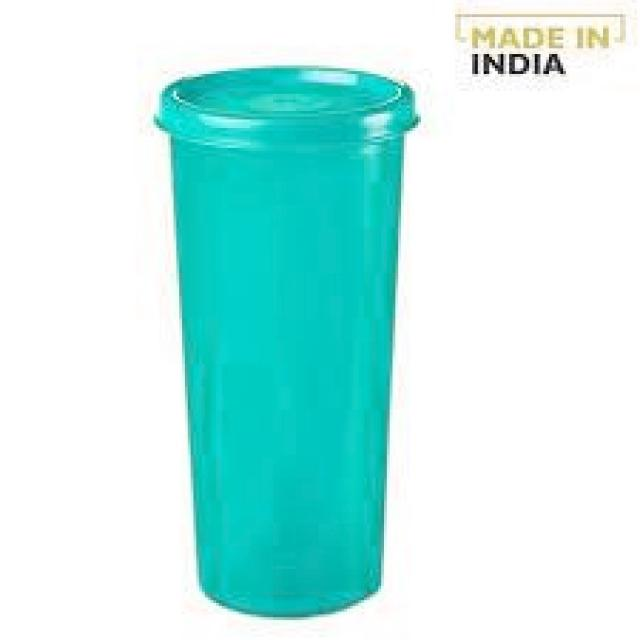bottle: (146, 61, 431, 622)
